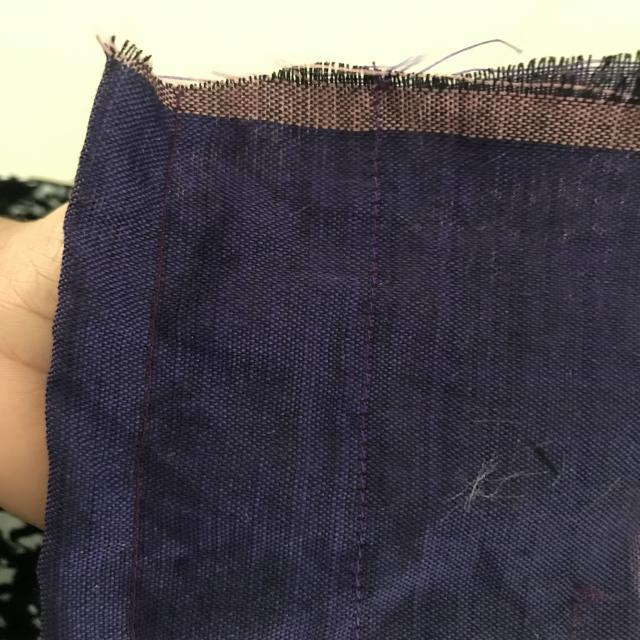good: (326, 424, 381, 528)
